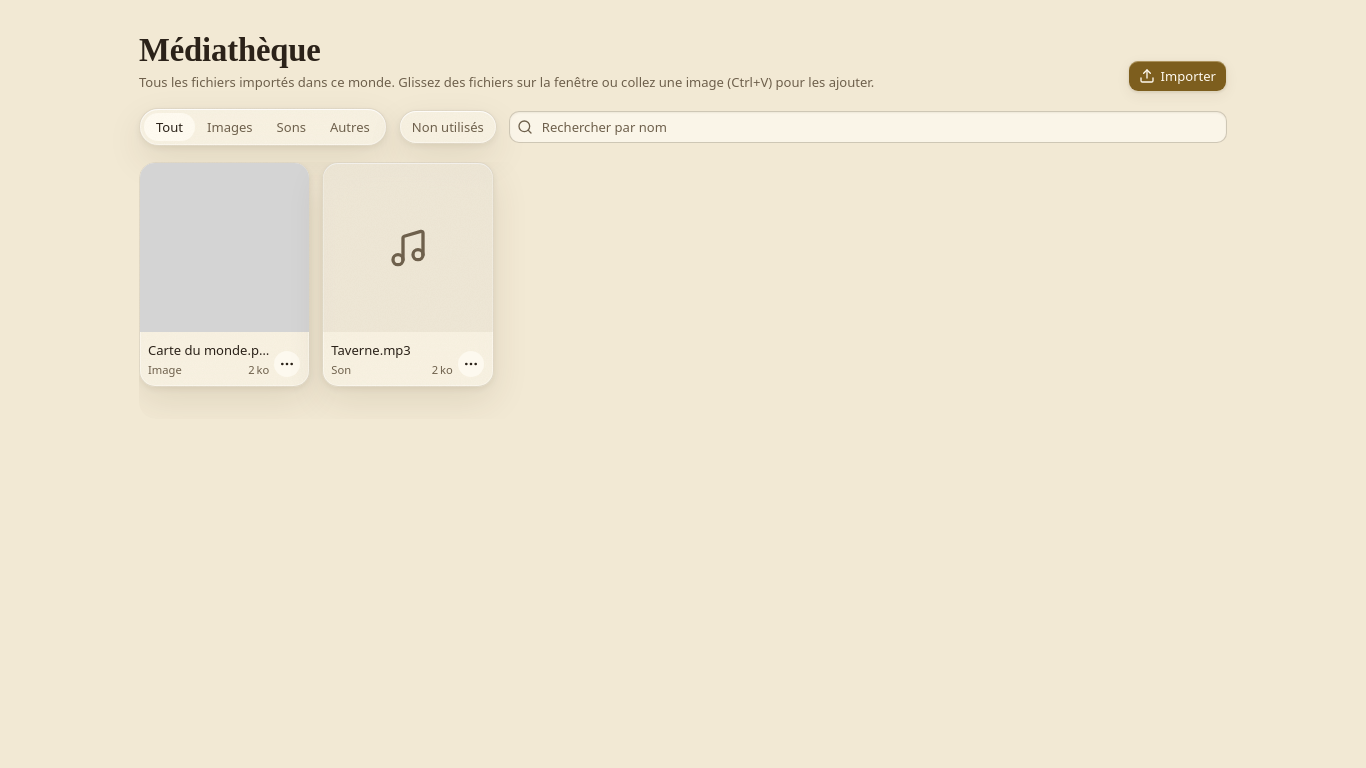
Scenario: warns before deleting an asset that is still used
Press Delete in the button named "Actions pour Carte du monde.png", box left=273, top=350, right=301, bottom=378
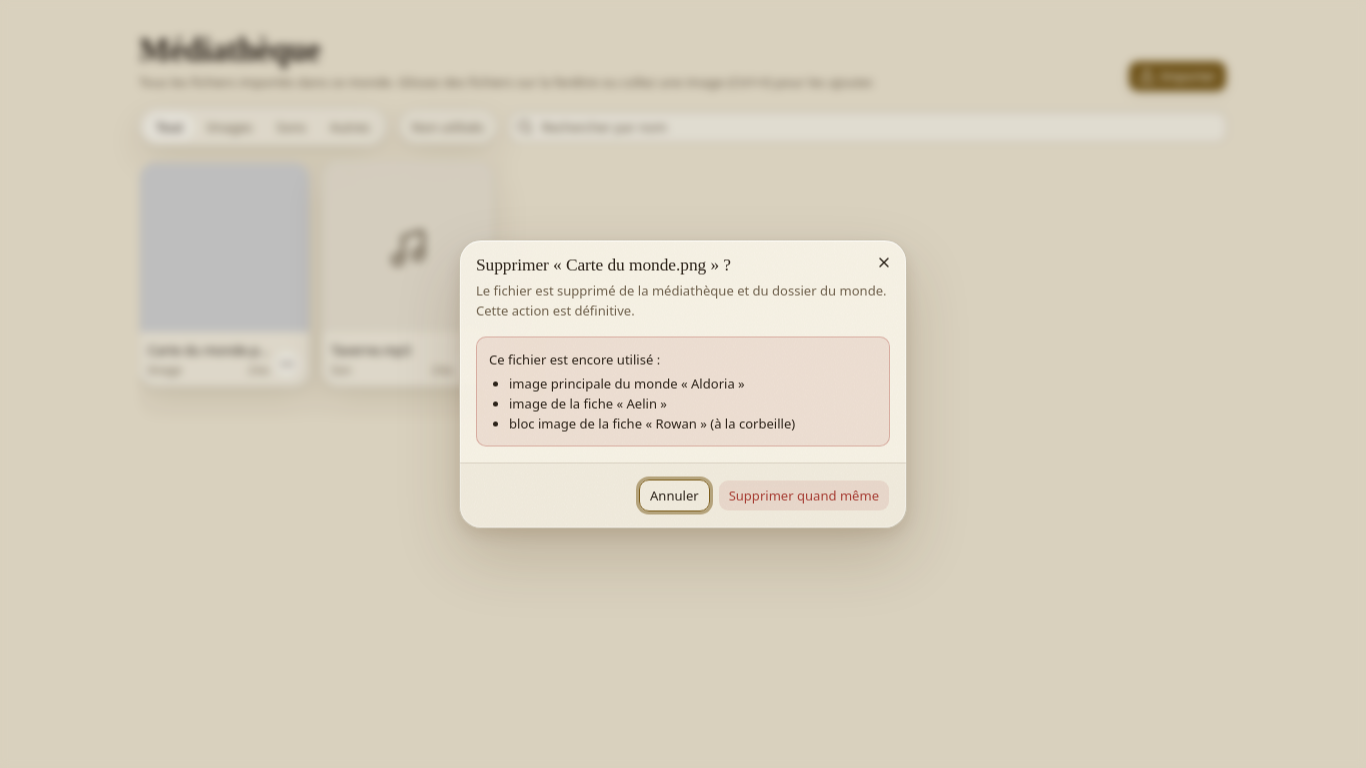
Expected: the message shows "image principale du monde « Aldoria »", left=509, top=374, right=745, bottom=392
Expected: the message shows "image de la fiche « Aelin »", left=509, top=394, right=667, bottom=412
Expected: the message shows "bloc image de la fiche « Rowan » (à la corbeille)", left=509, top=414, right=795, bottom=432
Click the button "Supprimer quand même".
click(804, 496)  # box left=718, top=480, right=890, bottom=512
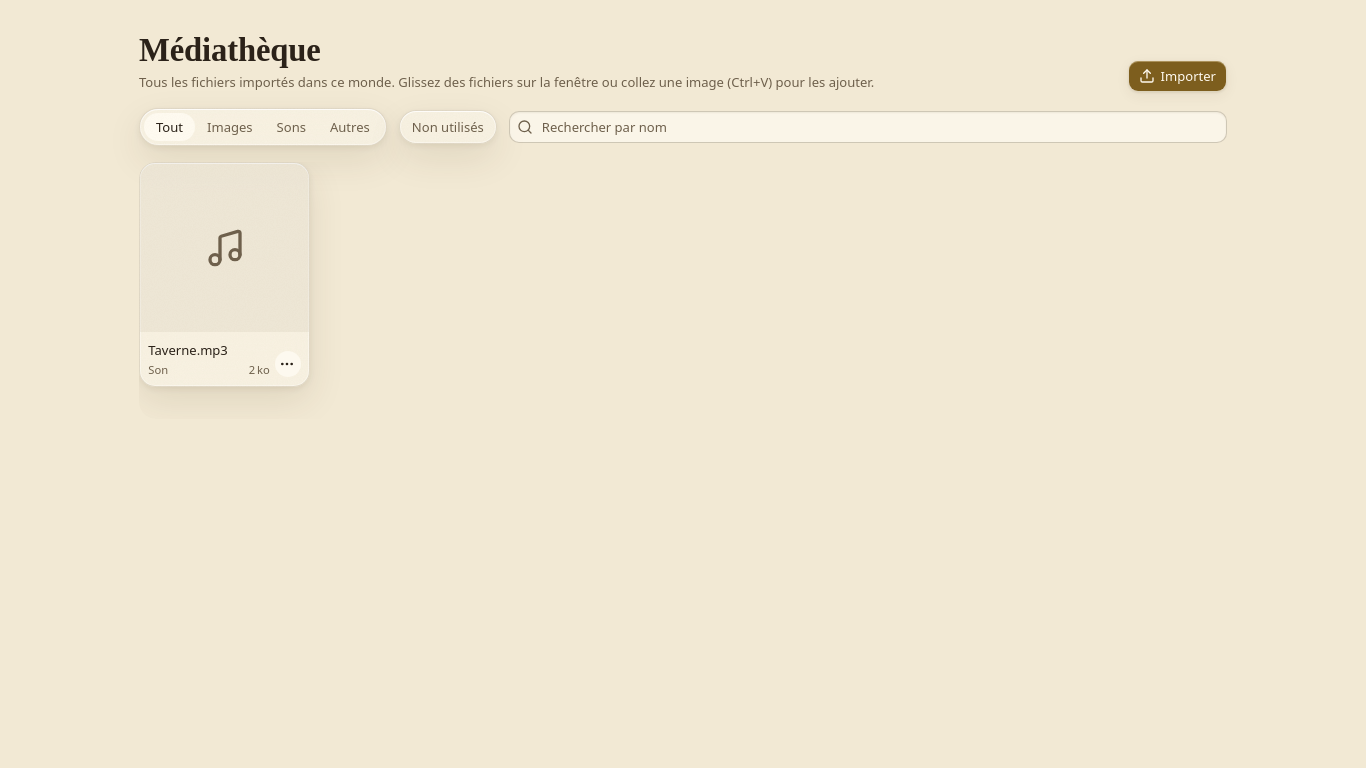
Expected: the text "Carte du monde.png" is gone
